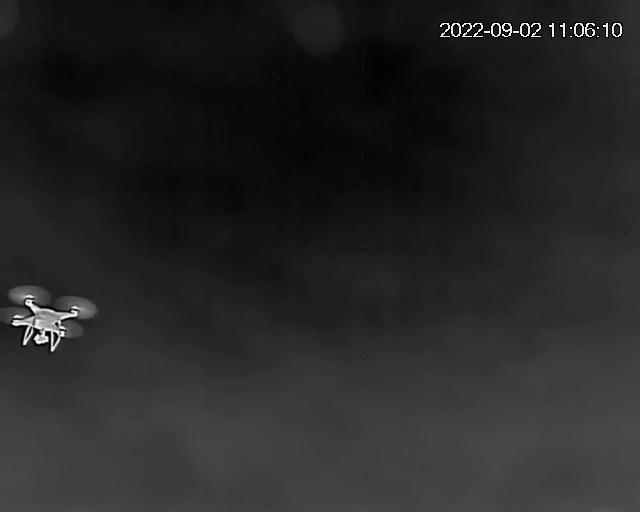DJI-Phantom: (0, 286, 92, 356)
